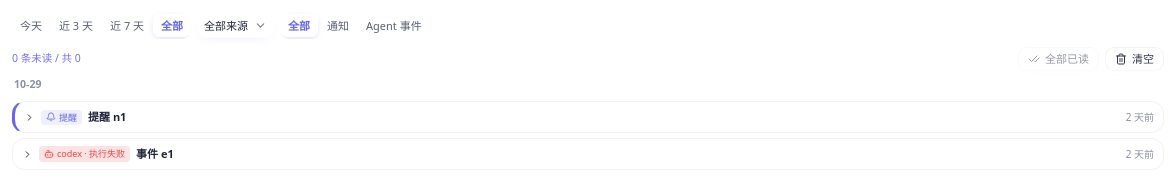
HistoryPanel 全局未读与筛选 › 清空通知后 Agent 事件仍在时间轴中
This screenshot has width=1176, height=187.
Expected: the text "提醒 n1" is shown, [88,109,126,124]
Expected: the text "事件 e1" is shown, [136,146,174,161]
第一次点击进入确认，第二次才真正清空
Click the button "清空" at (1134, 59), box [1105,47,1164,71]
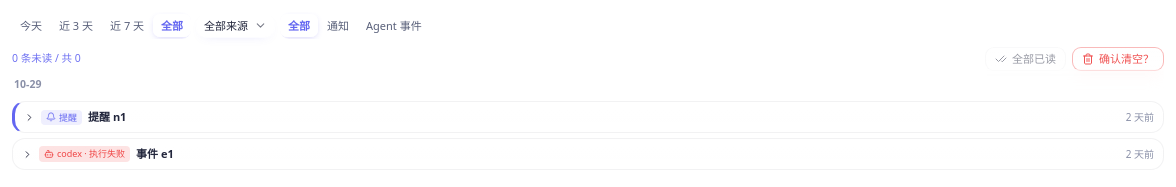
Click the button "确认清空？" at (1118, 59), box [1072,47,1164,71]
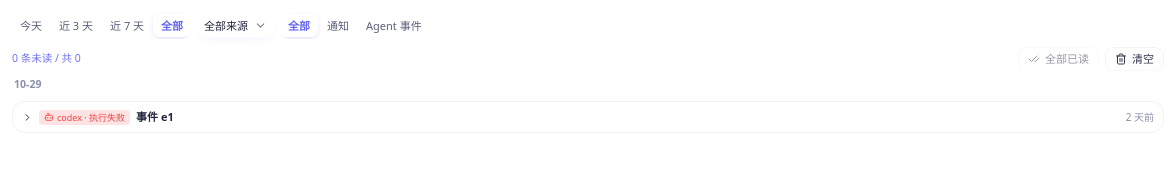
Expected: the text "事件 e1" is shown, [136,109,174,124]
Expected: the button "提醒 n1" is gone
